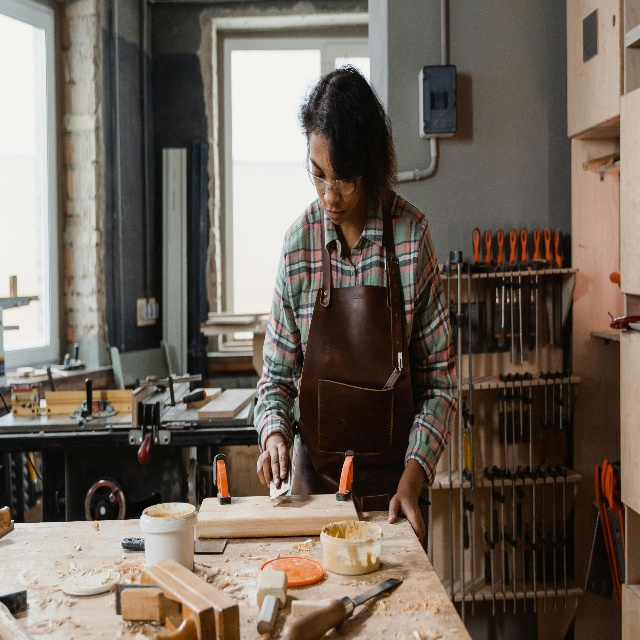Gafas: (305, 164, 358, 203)
